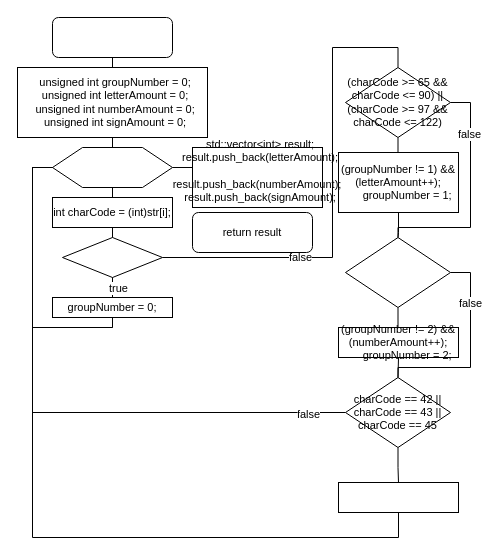
This 499x556 diagram has some shape labels left out. The shapes that lost their labels are listed below. From the top down, each one's box as (x1, y1, x2, y2) in pixels, then its label:
(52, 16, 172, 58): getGroups(string str)
(52, 146, 172, 188): int i = 0; i <= str.length(); ++i
(62, 236, 162, 278): charCode == 32
(344, 236, 450, 308): charCode >= 48 && charCode <= 57
(338, 482, 458, 512): (groupNumber != 3) && (signAmount++); groupNumber = 3;
